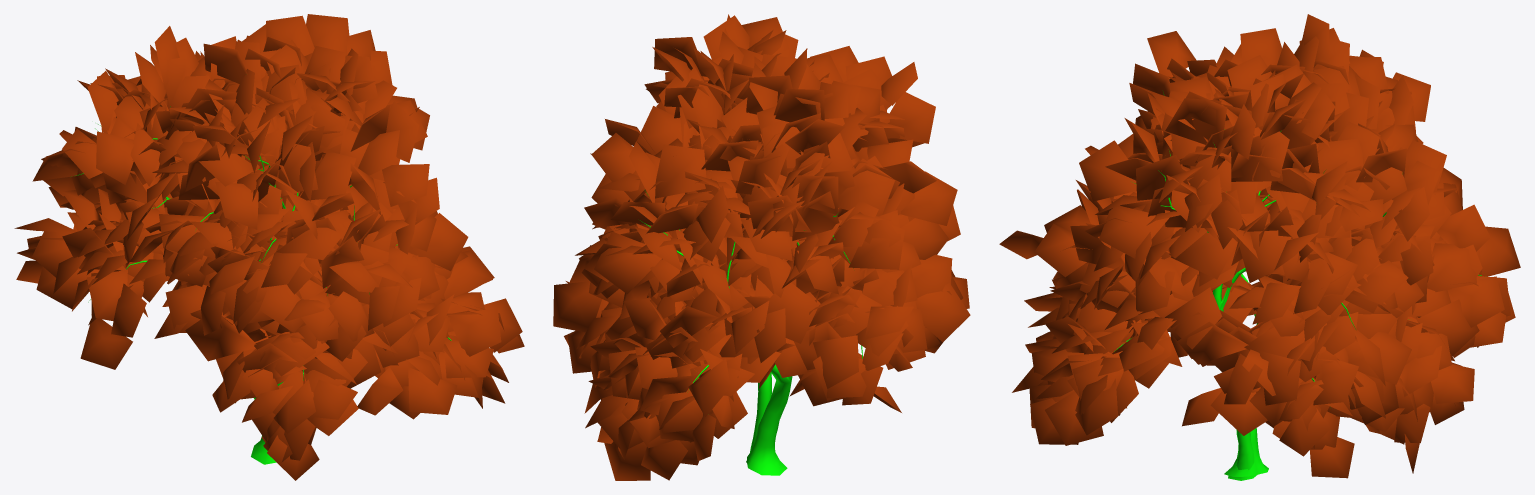
File: Tree_v1.FBX
3 renders of one model, left to right at view 1: azimuth 30°, elevation 25°; view 2: azimuth 150°, elevation 25°; view 3: azimuth 270°, elevation 25°, orthographic. The views are drawn at different scales.
Parts seen in each view (by area): view 1: Trees1; view 2: Trees1; view 3: Trees1.
Part boxes in pixels (bbox=[...]): Trees1: bbox=[14, 14, 524, 480]; Trees1: bbox=[553, 14, 970, 480]; Trees1: bbox=[999, 14, 1520, 480].
Size of the model in its own units: 1270 by 1348 by 1504.
